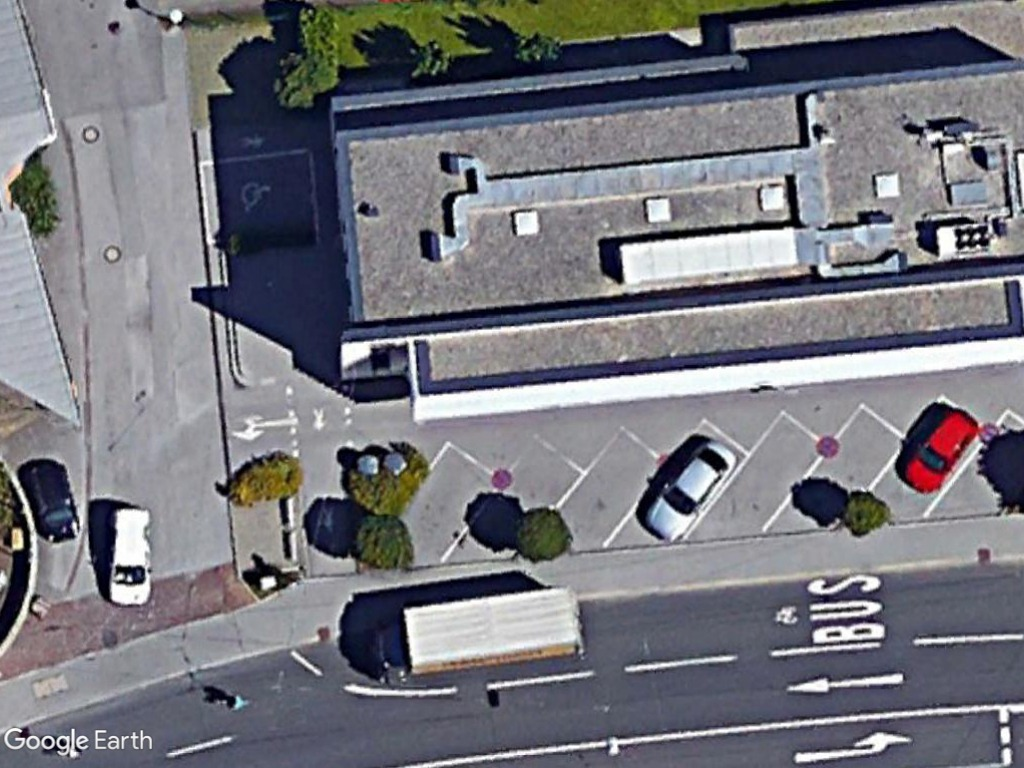car: (636, 433, 744, 547), (893, 404, 979, 494), (100, 500, 156, 611), (22, 458, 83, 547)
truck: (363, 584, 590, 687)
